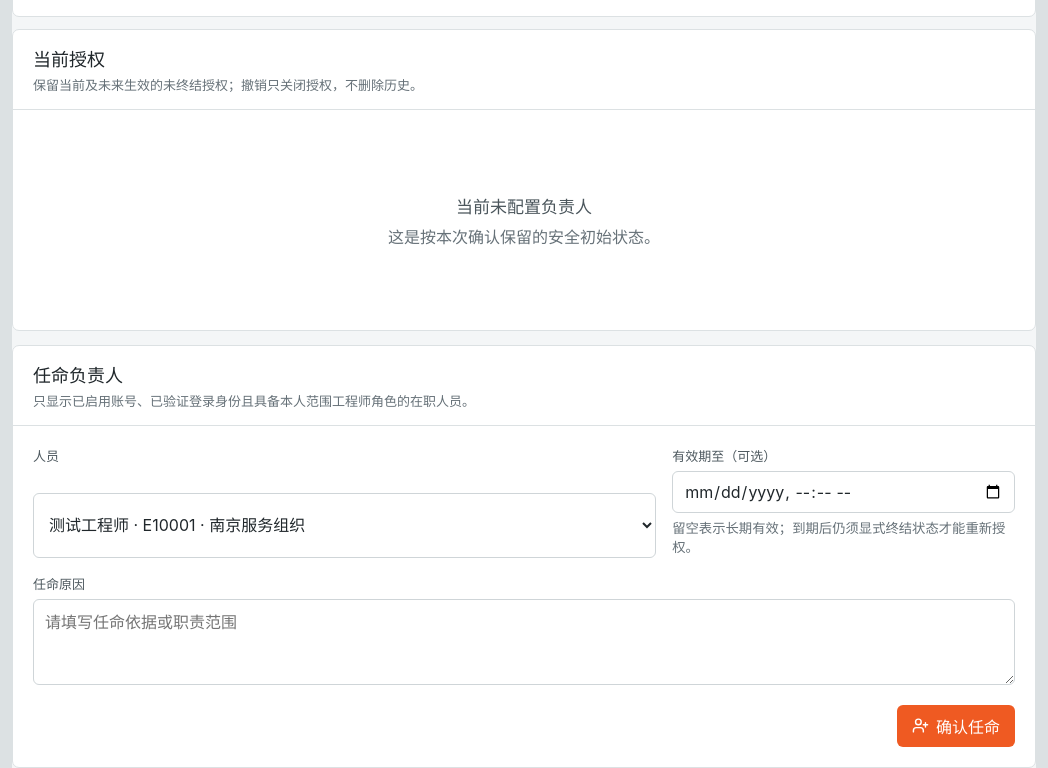
Test case: provincial manager administration › starts empty and grants an exact engineer to the selected region
(page scrolled)
Expected: the text "当前未配置负责人" is shown, [456,192,592,218]
Type "江苏省背包物资职责确认" into the text box with placeholder "请填写任命依据或职责范围" at (524, 642), box [33,599,1015,685]
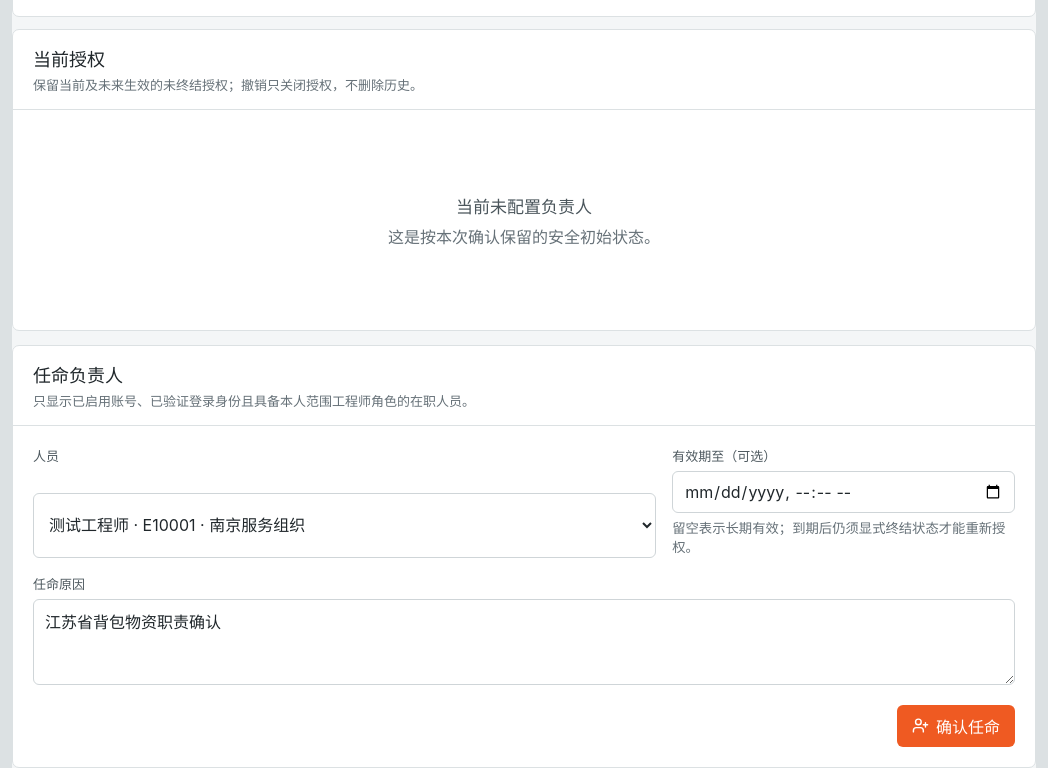
Click the button "确认任命" at (956, 726), box [897,705,1015,747]
(page scrolled)
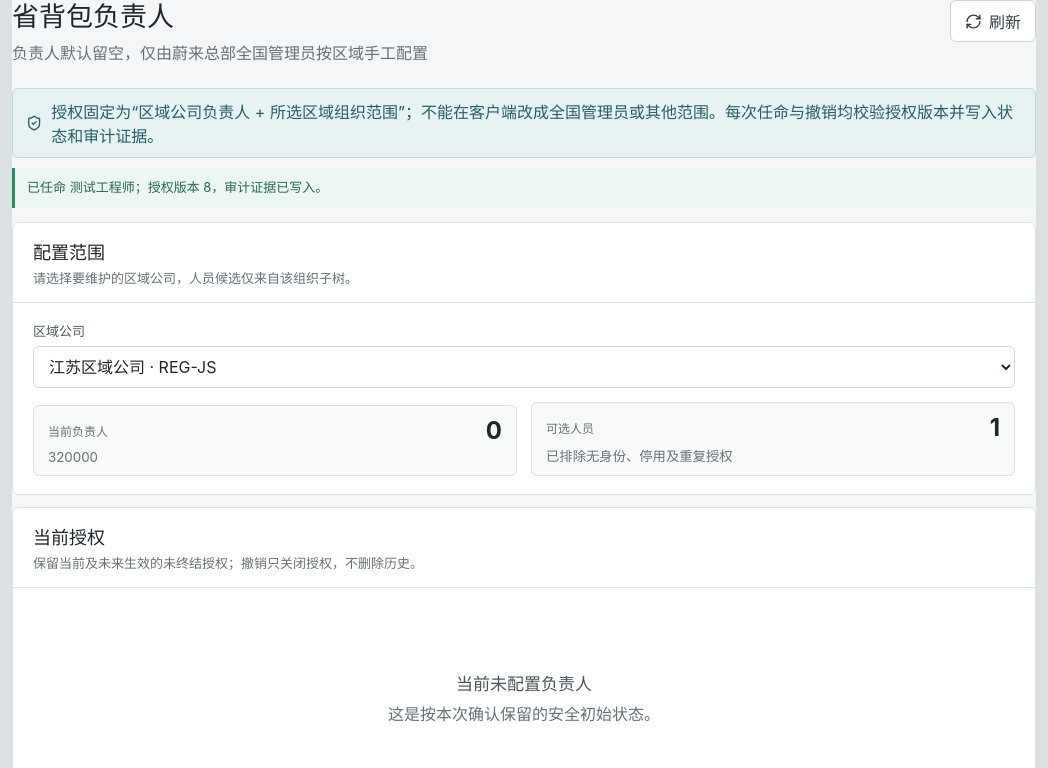
Expected: the text "已任命 测试工程师；授权版本 8，审计证据已写入。" is shown, [12,168,1036,208]
